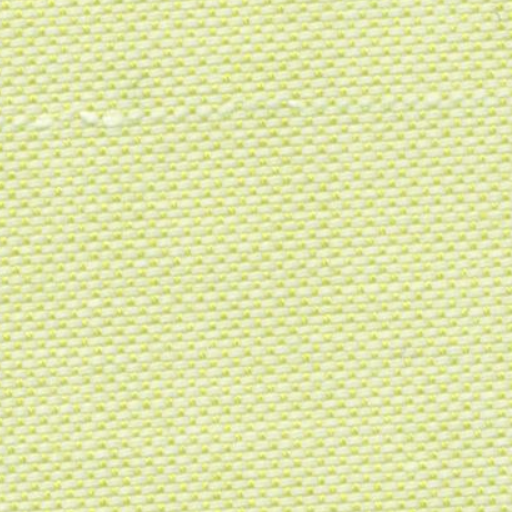TuoSha: (44, 86, 502, 138)
